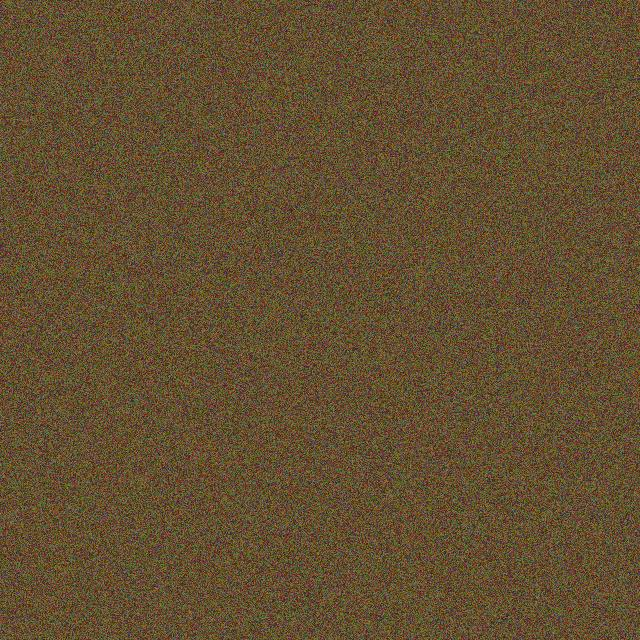ghost_net: (168, 263, 277, 380)
